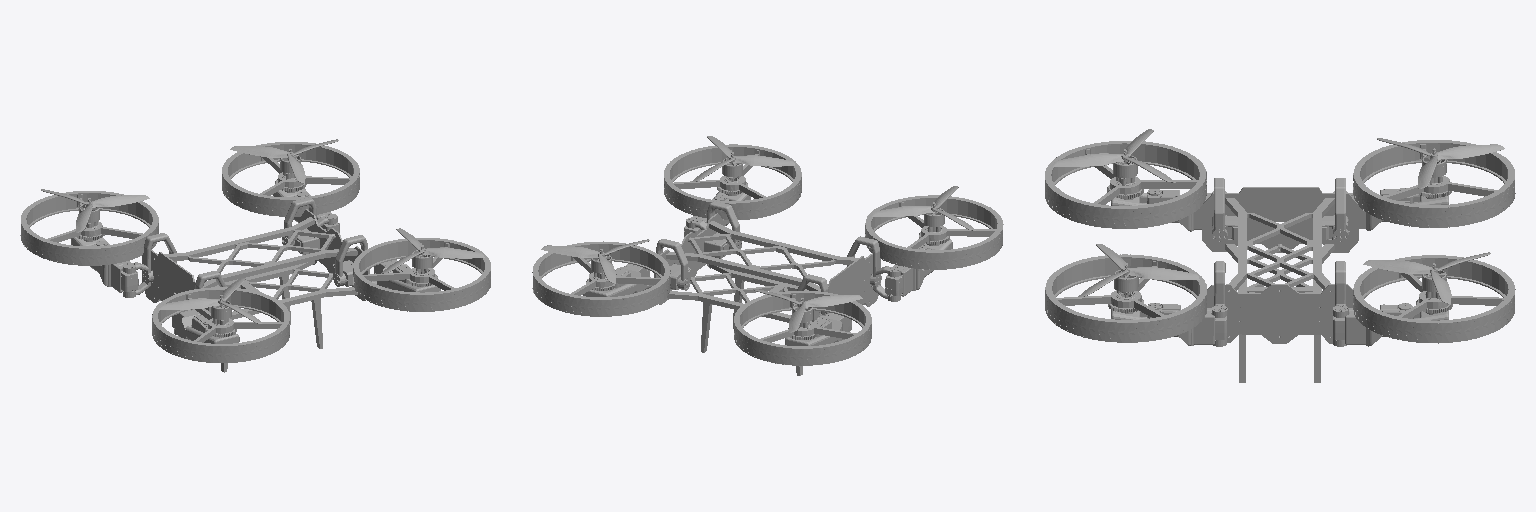
robot.urdf — morphobot.zip:
<?xml version="1.0" encoding="utf-8"?>
<!-- This URDF was automatically created by SolidWorks to URDF Exporter! Originally created by Stephen Brawner (brawner@gmail.com) 
     Commit Version: 1.6.0-4-g7f85cfe  Build Version: 1.6.7995.38578
     For more information, please see http://wiki.ros.org/sw_urdf_exporter -->
<robot
  name="morphobot.zip">
  <link
    name="chassis">
    <inertial>
      <origin
        xyz="-0.0017859 8.8687E-05 0.0030325"
        rpy="0 0 0" />
      <mass
        value="1.3009" />
      <inertia
        ixx="0.0030792"
        ixy="6.1049E-08"
        ixz="-1.3499E-08"
        iyy="0.0068536"
        iyz="2.3283E-07"
        izz="0.008838" />
    </inertial>
    <visual>
      <origin
        xyz="0 0 0"
        rpy="0 0 0" />
      <geometry>
        <mesh
          filename="package://morphobot.zip/meshes/chassis.STL" />
      </geometry>
      <material
        name="">
        <color
          rgba="0.69804 0.69804 0.69804 1" />
      </material>
    </visual>
    <collision>
      <origin
        xyz="0 0 0"
        rpy="0 0 0" />
      <geometry>
        <mesh
          filename="package://morphobot.zip/meshes/chassis.STL" />
      </geometry>
    </collision>
  </link>
  <link
    name="servo_bracket_FR">
    <inertial>
      <origin
        xyz="-0.042924 -4.0721E-06 -0.020009"
        rpy="0 0 0" />
      <mass
        value="0.042405" />
      <inertia
        ixx="3.2812E-05"
        ixy="-2.9362E-09"
        ixz="1.0648E-05"
        iyy="6.4138E-05"
        iyz="1.9445E-09"
        izz="3.3214E-05" />
    </inertial>
    <visual>
      <origin
        xyz="0 0 0"
        rpy="0 0 0" />
      <geometry>
        <mesh
          filename="package://morphobot.zip/meshes/servo_bracket_FR.STL" />
      </geometry>
      <material
        name="">
        <color
          rgba="0.69804 0.69804 0.69804 1" />
      </material>
    </visual>
    <collision>
      <origin
        xyz="0 0 0"
        rpy="0 0 0" />
      <geometry>
        <mesh
          filename="package://morphobot.zip/meshes/servo_bracket_FR.STL" />
      </geometry>
    </collision>
  </link>
  <joint
    name="hip_FR"
    type="continuous">
    <origin
      xyz="-0.101434631039295 0.0823210899942516 0.0304773195684974"
      rpy="3.14159265358979 0 0" />
    <parent
      link="chassis" />
    <child
      link="servo_bracket_FR" />
    <axis
      xyz="1 0 0" />
    <limit
      lower="0"
      upper="0"
      effort="0"
      velocity="0" />
  </joint>
  <link
    name="append_FR">
    <inertial>
      <origin
        xyz="0.074461 0.0092264 -9.2304E-05"
        rpy="0 0 0" />
      <mass
        value="0.27522" />
      <inertia
        ixx="5.7287E-05"
        ixy="-3.0586E-05"
        ixz="3.0784E-08"
        iyy="0.00027515"
        iyz="-3.5022E-09"
        izz="0.00026016" />
    </inertial>
    <visual>
      <origin
        xyz="0 0 0"
        rpy="0 0 0" />
      <geometry>
        <mesh
          filename="package://morphobot.zip/meshes/append_FR.STL" />
      </geometry>
      <material
        name="">
        <color
          rgba="0.69804 0.69804 0.69804 1" />
      </material>
    </visual>
    <collision>
      <origin
        xyz="0 0 0"
        rpy="0 0 0" />
      <geometry>
        <mesh
          filename="package://morphobot.zip/meshes/append_FR.STL" />
      </geometry>
    </collision>
  </link>
  <joint
    name="ankle_FR"
    type="continuous">
    <origin
      xyz="-0.0840448577552637 0 0"
      rpy="-1.5707963267949 0 -1.57079616492685" />
    <parent
      link="servo_bracket_FR" />
    <child
      link="append_FR" />
    <axis
      xyz="0 1 0" />
    <limit
      lower="0"
      upper="0"
      effort="0"
      velocity="0" />
  </joint>
  <link
    name="wheel_FR">
    <inertial>
      <origin
        xyz="-2.8588E-15 -0.01465 -1.8152E-14"
        rpy="0 0 0" />
      <mass
        value="0.18408" />
      <inertia
        ixx="0.00089659"
        ixy="9.929E-19"
        ixz="7.5935E-16"
        iyy="0.0017666"
        iyz="8.4616E-18"
        izz="0.00089659" />
    </inertial>
    <visual>
      <origin
        xyz="0 0 0"
        rpy="0 0 0" />
      <geometry>
        <mesh
          filename="package://morphobot.zip/meshes/wheel_FR.STL" />
      </geometry>
      <material
        name="">
        <color
          rgba="0.69804 0.69804 0.69804 1" />
      </material>
    </visual>
    <collision>
      <origin
        xyz="0 0 0"
        rpy="0 0 0" />
      <geometry>
        <mesh
          filename="package://morphobot.zip/meshes/wheel_FR.STL" />
      </geometry>
    </collision>
  </link>
  <joint
    name="drive_FR"
    type="continuous">
    <origin
      xyz="0.127442160253388 0.0254871047178672 -0.000115427389016098"
      rpy="0 0.899970226771414 3.14159265358979" />
    <parent
      link="append_FR" />
    <child
      link="wheel_FR" />
    <axis
      xyz="0 1 0" />
    <limit
      lower="0"
      upper="0"
      effort="0"
      velocity="0" />
  </joint>
  <link
    name="prop_FR">
    <inertial>
      <origin
        xyz="-4.282E-07 0.007285 -3.5747E-07"
        rpy="0 0 0" />
      <mass
        value="0.011584" />
      <inertia
        ixx="4.6684E-06"
        ixy="1.0825E-11"
        ixz="-3.3532E-11"
        iyy="9.2341E-06"
        iyz="1.7078E-12"
        izz="4.6683E-06" />
    </inertial>
    <visual>
      <origin
        xyz="0 0 0"
        rpy="0 0 0" />
      <geometry>
        <mesh
          filename="package://morphobot.zip/meshes/prop_FR.STL" />
      </geometry>
      <material
        name="">
        <color
          rgba="0.69804 0.69804 0.69804 1" />
      </material>
    </visual>
    <collision>
      <origin
        xyz="0 0 0"
        rpy="0 0 0" />
      <geometry>
        <mesh
          filename="package://morphobot.zip/meshes/prop_FR.STL" />
      </geometry>
    </collision>
  </link>
  <joint
    name="rotor_FR"
    type="continuous">
    <origin
      xyz="0 -0.05 0"
      rpy="0 -0.757967691843519 3.14159265358979" />
    <parent
      link="wheel_FR" />
    <child
      link="prop_FR" />
    <axis
      xyz="0 1 0" />
    <limit
      lower="0"
      upper="0"
      effort="0"
      velocity="0" />
  </joint>
  <link
    name="servo_bracket_FL">
    <inertial>
      <origin
        xyz="-0.042924 -4.0728E-06 -0.020009"
        rpy="0 0 0" />
      <mass
        value="0.042405" />
      <inertia
        ixx="3.2812E-05"
        ixy="-2.9364E-09"
        ixz="1.0648E-05"
        iyy="6.4138E-05"
        iyz="1.9444E-09"
        izz="3.3214E-05" />
    </inertial>
    <visual>
      <origin
        xyz="0 0 0"
        rpy="0 0 0" />
      <geometry>
        <mesh
          filename="package://morphobot.zip/meshes/servo_bracket_FL.STL" />
      </geometry>
      <material
        name="">
        <color
          rgba="0.69804 0.69804 0.69804 1" />
      </material>
    </visual>
    <collision>
      <origin
        xyz="0 0 0"
        rpy="0 0 0" />
      <geometry>
        <mesh
          filename="package://morphobot.zip/meshes/servo_bracket_FL.STL" />
      </geometry>
    </collision>
  </link>
  <joint
    name="hip_FL"
    type="continuous">
    <origin
      xyz="-0.101434631039295 -0.0823210899942522 0.0304773195684969"
      rpy="-3.1333675045612 0 0" />
    <parent
      link="chassis" />
    <child
      link="servo_bracket_FL" />
    <axis
      xyz="1 0 0" />
    <limit
      lower="0"
      upper="0"
      effort="0"
      velocity="0" />
  </joint>
  <link
    name="append_FL">
    <inertial>
      <origin
        xyz="-0.074461 -0.0089764 -9.2298E-05"
        rpy="0 0 0" />
      <mass
        value="0.27522" />
      <inertia
        ixx="5.7287E-05"
        ixy="-3.0586E-05"
        ixz="-3.0785E-08"
        iyy="0.00027515"
        iyz="3.4909E-09"
        izz="0.00026016" />
    </inertial>
    <visual>
      <origin
        xyz="0 0 0"
        rpy="0 0 0" />
      <geometry>
        <mesh
          filename="package://morphobot.zip/meshes/append_FL.STL" />
      </geometry>
      <material
        name="">
        <color
          rgba="0.69804 0.69804 0.69804 1" />
      </material>
    </visual>
    <collision>
      <origin
        xyz="0 0 0"
        rpy="0 0 0" />
      <geometry>
        <mesh
          filename="package://morphobot.zip/meshes/append_FL.STL" />
      </geometry>
    </collision>
  </link>
  <joint
    name="ankle_FL"
    type="continuous">
    <origin
      xyz="-0.0840448577552642 0 0"
      rpy="1.5707963267949 0 -1.57079616537033" />
    <parent
      link="servo_bracket_FL" />
    <child
      link="append_FL" />
    <axis
      xyz="0 1 0" />
    <limit
      lower="0"
      upper="0"
      effort="0"
      velocity="0" />
  </joint>
  <link
    name="wheel_FL">
    <inertial>
      <origin
        xyz="-1.9984E-15 -0.016481 -1.8568E-14"
        rpy="0 0 0" />
      <mass
        value="0.18408" />
      <inertia
        ixx="0.00089659"
        ixy="1.0385E-18"
        ixz="7.5768E-16"
        iyy="0.0017666"
        iyz="7.7999E-18"
        izz="0.00089659" />
    </inertial>
    <visual>
      <origin
        xyz="0 0 0"
        rpy="0 0 0" />
      <geometry>
        <mesh
          filename="package://morphobot.zip/meshes/wheel_FL.STL" />
      </geometry>
      <material
        name="">
        <color
          rgba="0.69804 0.69804 0.69804 1" />
      </material>
    </visual>
    <collision>
      <origin
        xyz="0 0 0"
        rpy="0 0 0" />
      <geometry>
        <mesh
          filename="package://morphobot.zip/meshes/wheel_FL.STL" />
      </geometry>
    </collision>
  </link>
  <joint
    name="drive_FL"
    type="continuous">
    <origin
      xyz="-0.12744216025344 -0.0234058917733765 -0.000115427332497725"
      rpy="3.14159265358979 1.56205294824498 3.14159265358979" />
    <parent
      link="append_FL" />
    <child
      link="wheel_FL" />
    <axis
      xyz="0 1 0" />
    <limit
      lower="0"
      upper="0"
      effort="0"
      velocity="0" />
  </joint>
  <link
    name="prop_FL">
    <inertial>
      <origin
        xyz="4.0196E-07 0.0091162 2.2698E-07"
        rpy="0 0 0" />
      <mass
        value="0.011584" />
      <inertia
        ixx="4.6679E-06"
        ixy="-1.1984E-12"
        ixz="-3.5714E-11"
        iyy="9.2332E-06"
        iyz="-3.4861E-12"
        izz="4.6679E-06" />
    </inertial>
    <visual>
      <origin
        xyz="0 0 0"
        rpy="0 0 0" />
      <geometry>
        <mesh
          filename="package://morphobot.zip/meshes/prop_FL.STL" />
      </geometry>
      <material
        name="">
        <color
          rgba="0.69804 0.69804 0.69804 1" />
      </material>
    </visual>
    <collision>
      <origin
        xyz="0 0 0"
        rpy="0 0 0" />
      <geometry>
        <mesh
          filename="package://morphobot.zip/meshes/prop_FL.STL" />
      </geometry>
    </collision>
  </link>
  <joint
    name="rotor_FL"
    type="continuous">
    <origin
      xyz="0 -0.05 0"
      rpy="0 0.256991852749541 -3.14159265358979" />
    <parent
      link="wheel_FL" />
    <child
      link="prop_FL" />
    <axis
      xyz="0 1 0" />
    <limit
      lower="0"
      upper="0"
      effort="0"
      velocity="0" />
  </joint>
  <link
    name="servo_bracket_BR">
    <inertial>
      <origin
        xyz="-0.042924 -4.0721E-06 -0.020009"
        rpy="0 0 0" />
      <mass
        value="0.042405" />
      <inertia
        ixx="3.2812E-05"
        ixy="-2.9362E-09"
        ixz="1.0648E-05"
        iyy="6.4138E-05"
        iyz="1.9445E-09"
        izz="3.3214E-05" />
    </inertial>
    <visual>
      <origin
        xyz="0 0 0"
        rpy="0 0 0" />
      <geometry>
        <mesh
          filename="package://morphobot.zip/meshes/servo_bracket_BR.STL" />
      </geometry>
      <material
        name="">
        <color
          rgba="0.69804 0.69804 0.69804 1" />
      </material>
    </visual>
    <collision>
      <origin
        xyz="0 0 0"
        rpy="0 0 0" />
      <geometry>
        <mesh
          filename="package://morphobot.zip/meshes/servo_bracket_BR.STL" />
      </geometry>
    </collision>
  </link>
  <joint
    name="hip_BR"
    type="continuous">
    <origin
      xyz="0.101434631039295 0.0823210899942516 0.0304773195684974"
      rpy="-3.14159265358979 0 3.14159265358979" />
    <parent
      link="chassis" />
    <child
      link="servo_bracket_BR" />
    <axis
      xyz="1 0 0" />
    <limit
      lower="0"
      upper="0"
      effort="0"
      velocity="0" />
  </joint>
  <link
    name="append_BR">
    <inertial>
      <origin
        xyz="-0.074461 -0.0090144 -9.2285E-05"
        rpy="0 0 0" />
      <mass
        value="0.27522" />
      <inertia
        ixx="5.7287E-05"
        ixy="-3.0586E-05"
        ixz="-3.0775E-08"
        iyy="0.00027515"
        iyz="3.4934E-09"
        izz="0.00026016" />
    </inertial>
    <visual>
      <origin
        xyz="0 0 0"
        rpy="0 0 0" />
      <geometry>
        <mesh
          filename="package://morphobot.zip/meshes/append_BR.STL" />
      </geometry>
      <material
        name="">
        <color
          rgba="0.69804 0.69804 0.69804 1" />
      </material>
    </visual>
    <collision>
      <origin
        xyz="0 0 0"
        rpy="0 0 0" />
      <geometry>
        <mesh
          filename="package://morphobot.zip/meshes/append_BR.STL" />
      </geometry>
    </collision>
  </link>
  <joint
    name="ankle_BR"
    type="continuous">
    <origin
      xyz="-0.0840448577552636 0 0"
      rpy="1.5707963713624 0 -1.57079616630448" />
    <parent
      link="servo_bracket_BR" />
    <child
      link="append_BR" />
    <axis
      xyz="0 0.999999999999999 0" />
    <limit
      lower="0"
      upper="0"
      effort="0"
      velocity="0" />
  </joint>
  <link
    name="wheel_BR">
    <inertial>
      <origin
        xyz="-3.33066907387547E-16 0.0153503594702697 -1.9595436384634E-14"
        rpy="0 0 0" />
      <mass
        value="0.184080607323592" />
      <inertia
        ixx="0.000896585517388218"
        ixy="4.02069493034564E-19"
        ixz="7.58257118118472E-16"
        iyy="0.0017665718315411"
        iyz="8.67939193200404E-18"
        izz="0.00089658551736539" />
    </inertial>
    <visual>
      <origin
        xyz="0 0 0"
        rpy="0 0 0" />
      <geometry>
        <mesh
          filename="package://morphobot.zip/meshes/wheel_BR.STL" />
      </geometry>
      <material
        name="">
        <color
          rgba="0.698039215686274 0.698039215686274 0.698039215686274 1" />
      </material>
    </visual>
    <collision>
      <origin
        xyz="0 0 0"
        rpy="0 0 0" />
      <geometry>
        <mesh
          filename="package://morphobot.zip/meshes/wheel_BR.STL" />
      </geometry>
    </collision>
  </link>
  <joint
    name="drive_BR"
    type="fixed">
    <origin
      xyz="-0.127442160253548 -0.0552371047230112 -0.000115424751671311"
      rpy="0 -1.47982271240139 0" />
    <parent
      link="append_BR" />
    <child
      link="wheel_BR" />
    <axis
      xyz="0 0 0" />
    <limit
      lower="0"
      upper="0"
      effort="0"
      velocity="0" />
  </joint>
  <link
    name="prop_BR">
    <inertial>
      <origin
        xyz="1.06331759147649E-07 0.00521171729784679 -5.22503755318038E-07"
        rpy="0 0 0" />
      <mass
        value="0.0115842243590244" />
      <inertia
        ixx="4.66797551376452E-06"
        ixy="-1.54937188217584E-12"
        ixz="2.48197141634751E-12"
        iyy="9.23323605990238E-06"
        iyz="3.59842727954327E-12"
        izz="4.66788844108918E-06" />
    </inertial>
    <visual>
      <origin
        xyz="0 0 0"
        rpy="0 0 0" />
      <geometry>
        <mesh
          filename="package://morphobot.zip/meshes/prop_BR.STL" />
      </geometry>
      <material
        name="">
        <color
          rgba="0.698039215686274 0.698039215686274 0.698039215686274 1" />
      </material>
    </visual>
    <collision>
      <origin
        xyz="0 0 0"
        rpy="0 0 0" />
      <geometry>
        <mesh
          filename="package://morphobot.zip/meshes/prop_BR.STL" />
      </geometry>
    </collision>
  </link>
  <joint
    name="rotor_BR"
    type="continuous">
    <origin
      xyz="0 -0.0228606222152567 0"
      rpy="0 -0.2616614599998 3.14159265358979" />
    <parent
      link="wheel_BR" />
    <child
      link="prop_BR" />
    <axis
      xyz="0 1 0" />
    <limit
      lower="0"
      upper="0"
      effort="0"
      velocity="0" />
  </joint>
  <link
    name="servo_bracket_BL">
    <inertial>
      <origin
        xyz="-0.0429244474612721 -4.07280103459362E-06 -0.0200092449338251"
        rpy="0 0 0" />
      <mass
        value="0.0424047053525931" />
      <inertia
        ixx="3.2812278167878E-05"
        ixy="-2.93638517942673E-09"
        ixz="1.06477878797441E-05"
        iyy="6.41382538057818E-05"
        iyz="1.94439198116056E-09"
        izz="3.32144065957128E-05" />
    </inertial>
    <visual>
      <origin
        xyz="0 0 0"
        rpy="0 0 0" />
      <geometry>
        <mesh
          filename="package://morphobot.zip/meshes/servo_bracket_BL.STL" />
      </geometry>
      <material
        name="">
        <color
          rgba="0.698039215686274 0.698039215686274 0.698039215686274 1" />
      </material>
    </visual>
    <collision>
      <origin
        xyz="0 0 0"
        rpy="0 0 0" />
      <geometry>
        <mesh
          filename="package://morphobot.zip/meshes/servo_bracket_BL.STL" />
      </geometry>
    </collision>
  </link>
  <joint
    name="hip_BL"
    type="continuous">
    <origin
      xyz="0.1014346310393 -0.0823210899942516 0.0304773195684969"
      rpy="-3.1333675045612 0 3.14159265358979" />
    <parent
      link="chassis" />
    <child
      link="servo_bracket_BL" />
    <axis
      xyz="1 0 0" />
    <limit
      lower="0"
      upper="0"
      effort="0"
      velocity="0" />
  </joint>
  <link
    name="append_BL">
    <inertial>
      <origin
        xyz="-0.0741523700092663 -0.0087483244558446 -9.21354746105385E-05"
        rpy="0 0 0" />
      <mass
        value="0.273625653121204" />
      <inertia
        ixx="5.72313511482587E-05"
        ixy="-3.05857846799223E-05"
        ixz="-3.07777683577657E-08"
        iyy="0.00027504471638492"
        iyz="3.47767582142496E-09"
        izz="0.000260105497241212" />
    </inertial>
    <visual>
      <origin
        xyz="0 0 0"
        rpy="0 0 0" />
      <geometry>
        <mesh
          filename="package://morphobot.zip/meshes/append_BL.STL" />
      </geometry>
      <material
        name="">
        <color
          rgba="0.698039215686274 0.698039215686274 0.698039215686274 1" />
      </material>
    </visual>
    <collision>
      <origin
        xyz="0 0 0"
        rpy="0 0 0" />
      <geometry>
        <mesh
          filename="package://morphobot.zip/meshes/append_BL.STL" />
      </geometry>
    </collision>
  </link>
  <joint
    name="ankle_BL"
    type="continuous">
    <origin
      xyz="-0.0840448577552638 0 0"
      rpy="1.5707963267949 0 1.57079648821944" />
    <parent
      link="servo_bracket_BL" />
    <child
      link="append_BL" />
    <axis
      xyz="0 1 0" />
    <limit
      lower="0"
      upper="0"
      effort="0"
      velocity="0" />
  </joint>
  <link
    name="wheel_BL">
    <inertial>
      <origin
        xyz="-2.92821322744885E-15 -0.0146476109832033 -1.49880108324396E-14"
        rpy="0 0 0" />
      <mass
        value="0.184080607323591" />
      <inertia
        ixx="0.000896585517388205"
        ixy="8.91925693458778E-19"
        ixz="7.62763333397865E-16"
        iyy="0.00176657183154109"
        iyz="8.75705012518858E-18"
        izz="0.000896585517365392" />
    </inertial>
    <visual>
      <origin
        xyz="0 0 0"
        rpy="0 0 0" />
      <geometry>
        <mesh
          filename="package://morphobot.zip/meshes/wheel_BL.STL" />
      </geometry>
      <material
        name="">
        <color
          rgba="0.698039215686274 0.698039215686274 0.698039215686274 1" />
      </material>
    </visual>
    <collision>
      <origin
        xyz="0 0 0"
        rpy="0 0 0" />
      <geometry>
        <mesh
          filename="package://morphobot.zip/meshes/wheel_BL.STL" />
      </geometry>
    </collision>
  </link>
  <joint
    name="drive_BL"
    type="continuous">
    <origin
      xyz="-0.12744216025344 -0.0252391342643944 -0.000115427332497781"
      rpy="0 0.386946659841151 0" />
    <parent
      link="append_BL" />
    <child
      link="wheel_BL" />
    <axis
      xyz="0 1 0" />
    <limit
      lower="0"
      upper="0"
      effort="0"
      velocity="0" />
  </joint>
  <link
    name="prop_BL">
    <inertial>
      <origin
        xyz="-3.72960129446653E-07 0.00728299709339199 2.74126777582984E-07"
        rpy="0 0 0" />
      <mass
        value="0.0115839475383225" />
      <inertia
        ixx="4.66828698275567E-06"
        ixy="-1.82227984890525E-13"
        ixz="3.57853129432066E-11"
        iyy="9.23403739485275E-06"
        iyz="-1.39160282645356E-11"
        izz="4.66837034300114E-06" />
    </inertial>
    <visual>
      <origin
        xyz="0 0 0"
        rpy="0 0 0" />
      <geometry>
        <mesh
          filename="package://morphobot.zip/meshes/prop_BL.STL" />
      </geometry>
      <material
        name="">
        <color
          rgba="0.698039215686274 0.698039215686274 0.698039215686274 1" />
      </material>
    </visual>
    <collision>
      <origin
        xyz="0 0 0"
        rpy="0 0 0" />
      <geometry>
        <mesh
          filename="package://morphobot.zip/meshes/prop_BL.STL" />
      </geometry>
    </collision>
  </link>
  <joint
    name="rotor_BL"
    type="continuous">
    <origin
      xyz="0 -0.05 0"
      rpy="-3.14159265358979 1.31719432919392 0" />
    <parent
      link="wheel_BL" />
    <child
      link="prop_BL" />
    <axis
      xyz="0 1 0" />
    <limit
      lower="0"
      upper="0"
      effort="0"
      velocity="0" />
  </joint>
</robot>

--- Facts derived from the render (not from the file) ---
Views: 3 orthographic renders of the robot side by side, from view 1: azimuth 30°, elevation 25°; view 2: azimuth 150°, elevation 25°; view 3: azimuth 270°, elevation 25°.
Robot: morphobot.zip — 17 links, 16 joints (15 continuous, 1 fixed); root link chassis; default pose: all joints at 0.
Visible links, largest first — view 1: chassis, wheel_FL, wheel_BL, wheel_FR, wheel_BR, append_FL, append_FR, append_BL, servo_bracket_FR, prop_FL, prop_BR, prop_FR (+4 smaller); view 2: chassis, wheel_BR, wheel_FR, wheel_FL, wheel_BL, append_FL, append_FR, append_BR, servo_bracket_FL, prop_BL, prop_BR, prop_FR (+4 smaller); view 3: chassis, wheel_BR, wheel_FL, wheel_BL, wheel_FR, append_BL, append_BR, append_FL, prop_FR, prop_BR, prop_FL, prop_BL (+5 smaller).
Link boxes in pixels (<box>): chassis: <box>142,209,369,372</box>; wheel_FL: <box>152,287,289,362</box>; wheel_BL: <box>353,238,490,311</box>; wheel_FR: <box>20,191,158,265</box>; wheel_BR: <box>222,142,359,216</box>; append_FL: <box>172,295,239,343</box>; append_FR: <box>71,198,138,292</box>; append_BL: <box>374,245,440,292</box>; servo_bracket_FR: <box>123,233,176,297</box>; prop_FL: <box>159,278,262,323</box>; prop_BR: <box>230,139,338,183</box>; prop_FR: <box>41,189,149,232</box>; chassis: <box>654,213,880,375</box>; wheel_BR: <box>532,241,670,316</box>; wheel_FR: <box>734,290,871,365</box>; wheel_FL: <box>865,195,1003,269</box>; wheel_BL: <box>664,144,801,219</box>; append_FL: <box>885,202,952,296</box>; append_FR: <box>785,298,851,345</box>; append_BR: <box>583,249,649,296</box>; servo_bracket_FL: <box>847,236,900,301</box>; prop_BL: <box>692,136,794,181</box>; prop_BR: <box>541,239,649,283</box>; prop_FR: <box>754,289,862,332</box>; chassis: <box>1202,187,1358,382</box>; wheel_BR: <box>1353,255,1515,343</box>; wheel_FL: <box>1045,141,1206,228</box>; wheel_BL: <box>1045,254,1206,342</box>; wheel_FR: <box>1353,140,1515,227</box>; append_BL: <box>1111,263,1226,345</box>; append_BR: <box>1333,263,1448,346</box>; append_FL: <box>1111,149,1210,231</box>; prop_FR: <box>1377,138,1504,189</box>; prop_BR: <box>1363,252,1490,303</box>; prop_FL: <box>1053,129,1175,182</box>; prop_BL: <box>1078,244,1199,296</box>.
Bounding box of the posed robot: 0.5918 × 0.6407 × 0.2218 m (x, y, z).
Meshes: 17 distinct files referenced, 17 mesh visuals loaded (17 binary STL).
